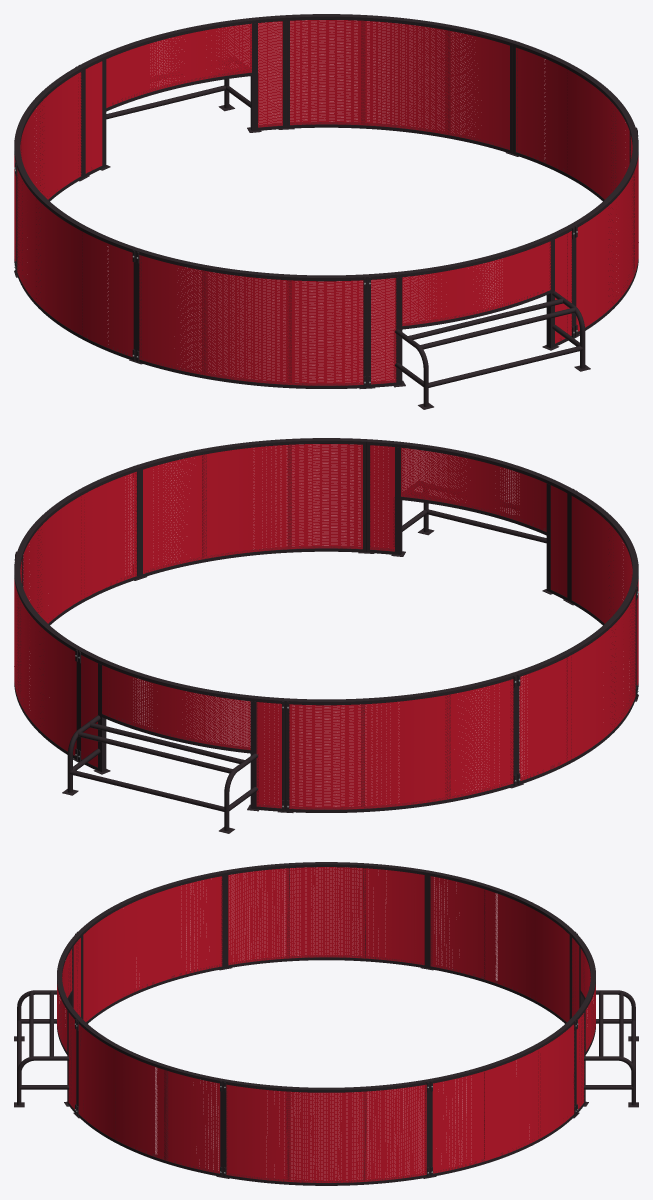
Rendered from panna-ring.glb.
3 renders of one model, top to bottom at view 1: azimuth 30°, elevation 25°; view 2: azimuth 150°, elevation 25°; view 3: azimuth 270°, elevation 25°, orthographic. The views are drawn at different scales.
Parts seen in each view (by area): view 1: RW1 06 | blacha zewnętrzna, RW1 02 | blacha wewnętrzna, RW1 07 | blacha zewnętrzna, RW1 03 | blacha wewnętrzna, RW1 06 | blacha wewnętrzna, RW1 02 | blacha zewnętrzna, RW2 05 | nadproże | blacha zewnętrzna, RW2 01 | nadproże | blacha wewnętrzna, RW1 04 | blacha zewnętrzna, RW1 08 | blacha wewnętrzna, RW2 05 | skrzydło 1 | blacha zewnętrzna, RW2 01 | skrzydło 1 | blacha wewnętrzna (+25 smaller); view 2: RW1 08 | blacha zewnętrzna, RW1 04 | blacha wewnętrzna, RW1 07 | blacha zewnętrzna, RW1 03 | blacha wewnętrzna, RW1 08 | blacha wewnętrzna, RW1 04 | blacha zewnętrzna, RW2 01 | nadproże | blacha zewnętrzna, RW2 05 | nadproże | blacha wewnętrzna, RW1 02 | blacha zewnętrzna, RW1 06 | blacha wewnętrzna, RW2 01 | skrzydło -1 | blacha zewnętrzna, RW2 05 | skrzydło -1 | blacha wewnętrzna (+26 smaller); view 3: RW1 03 | blacha zewnętrzna, RW1 07 | blacha wewnętrzna, RW1 04 | blacha zewnętrzna, RW1 02 | blacha zewnętrzna, RW1 08 | blacha wewnętrzna, RW1 06 | blacha wewnętrzna, RW1 03 | blacha wewnętrzna, RW1 07 | blacha zewnętrzna, RW1 04 | blacha wewnętrzna, RW1 06 | blacha zewnętrzna, RW1 08 | blacha zewnętrzna, RW1 02 | blacha wewnętrzna (+20 smaller).
Boxes of the visible parts, <box> form: RW1 06 | blacha zewnętrzna: <box>139,255,363,385</box>; RW1 02 | blacha wewnętrzna: <box>290,20,509,149</box>; RW1 07 | blacha zewnętrzna: <box>17,168,133,356</box>; RW1 03 | blacha wewnętrzna: <box>516,47,629,199</box>; RW1 06 | blacha wewnętrzna: <box>143,256,362,382</box>; RW1 02 | blacha zewnętrzna: <box>290,20,509,144</box>; RW2 05 | nadproże | blacha zewnętrzna: <box>402,241,550,325</box>; RW2 01 | nadproże | blacha wewnętrzna: <box>106,23,251,107</box>; RW1 04 | blacha zewnętrzna: <box>576,155,638,331</box>; RW1 08 | blacha wewnętrzna: <box>20,72,81,199</box>; RW2 05 | skrzydło 1 | blacha zewnętrzna: <box>371,278,396,384</box>; RW2 01 | skrzydło 1 | blacha wewnętrzna: <box>258,21,282,127</box>; RW1 08 | blacha zewnętrzna: <box>289,679,513,809</box>; RW1 04 | blacha wewnętrzna: <box>143,444,362,573</box>; RW1 07 | blacha zewnętrzna: <box>519,592,635,780</box>; RW1 03 | blacha wewnętrzna: <box>23,471,136,623</box>; RW1 08 | blacha wewnętrzna: <box>290,683,509,806</box>; RW1 04 | blacha zewnętrzna: <box>144,444,362,569</box>; RW2 01 | nadproże | blacha zewnętrzna: <box>102,665,250,749</box>; RW2 05 | nadproże | blacha wewnętrzna: <box>401,447,546,531</box>; RW1 02 | blacha zewnętrzna: <box>14,579,76,755</box>; RW1 06 | blacha wewnętrzna: <box>571,496,632,623</box>; RW2 01 | skrzydło -1 | blacha zewnętrzna: <box>256,702,281,808</box>; RW2 05 | skrzydło -1 | blacha wewnętrzna: <box>370,445,394,551</box>; RW1 03 | blacha zewnętrzna: <box>226,1084,426,1182</box>; RW1 07 | blacha wewnętrzna: <box>228,867,424,965</box>; RW1 04 | blacha zewnętrzna: <box>78,1024,220,1173</box>; RW1 02 | blacha zewnętrzna: <box>432,1024,574,1173</box>; RW1 08 | blacha wewnętrzna: <box>430,876,569,1022</box>; RW1 06 | blacha wewnętrzna: <box>83,876,222,1021</box>; RW1 03 | blacha wewnętrzna: <box>228,1085,423,1180</box>; RW1 07 | blacha zewnętrzna: <box>230,867,423,962</box>; RW1 04 | blacha wewnętrzna: <box>127,1057,220,1169</box>; RW1 06 | blacha zewnętrzna: <box>83,877,219,1014</box>; RW1 08 | blacha zewnętrzna: <box>433,877,567,1015</box>; RW1 02 | blacha wewnętrzna: <box>433,1058,521,1170</box>.
Size of the model in its own units: 5.09 by 1 by 5.9.
Materials: 5 (1 with a texture image).
